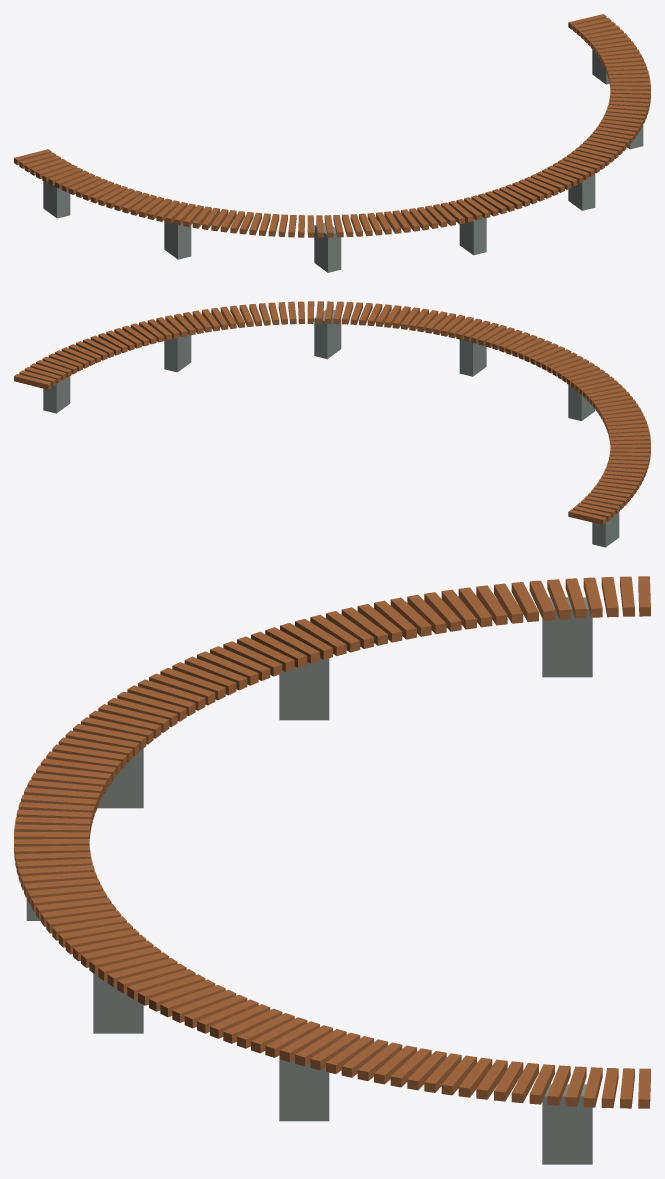
3 renders of one model, top to bottom at view 1: azimuth 30°, elevation 25°; view 2: azimuth 150°, elevation 25°; view 3: azimuth 270°, elevation 25°, orthographic. The views are drawn at different scales.
Visible parts, largest first — view 1: SW-L503; view 2: SW-L503; view 3: SW-L503.
Part boxes in pixels (x1,y1,x2,y2): SW-L503: [14, 14, 650, 272]; SW-L503: [14, 301, 650, 547]; SW-L503: [14, 576, 650, 1164].
Bounding box in the file's own units: 6.84 × 0.47 × 3.52.
